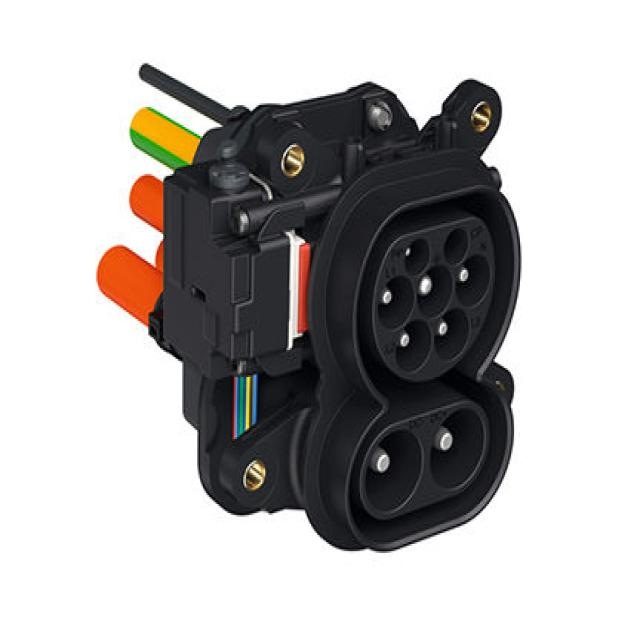inlet: (373, 216, 495, 382)
inlet-above-left: (405, 238, 430, 276)
inlet-above-right: (445, 227, 468, 263)
inlet-below-left: (395, 321, 432, 374)
inlet-below-right: (435, 307, 470, 360)
inlet-circle: (415, 264, 451, 319)
inlet-circle-left: (378, 274, 414, 332)
inlet-circle-right: (454, 254, 490, 306)
inlet-minus: (431, 408, 485, 490)
inlet-plus: (364, 429, 423, 513)
